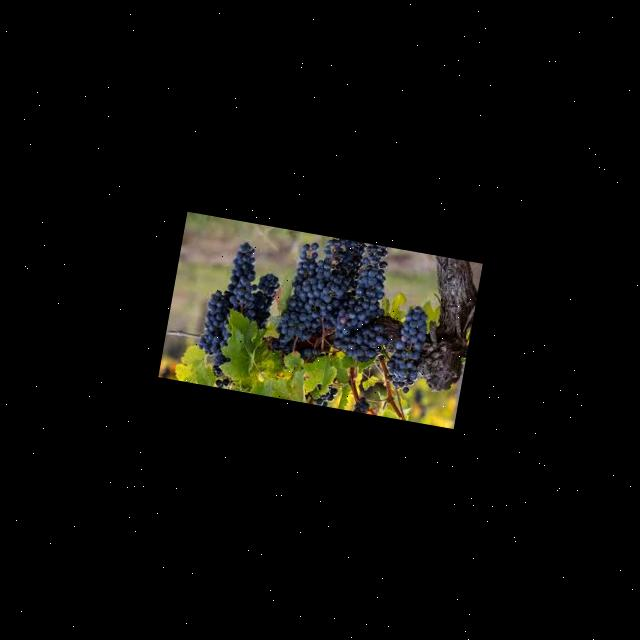grape: (190, 238, 284, 394), (380, 303, 430, 396)
